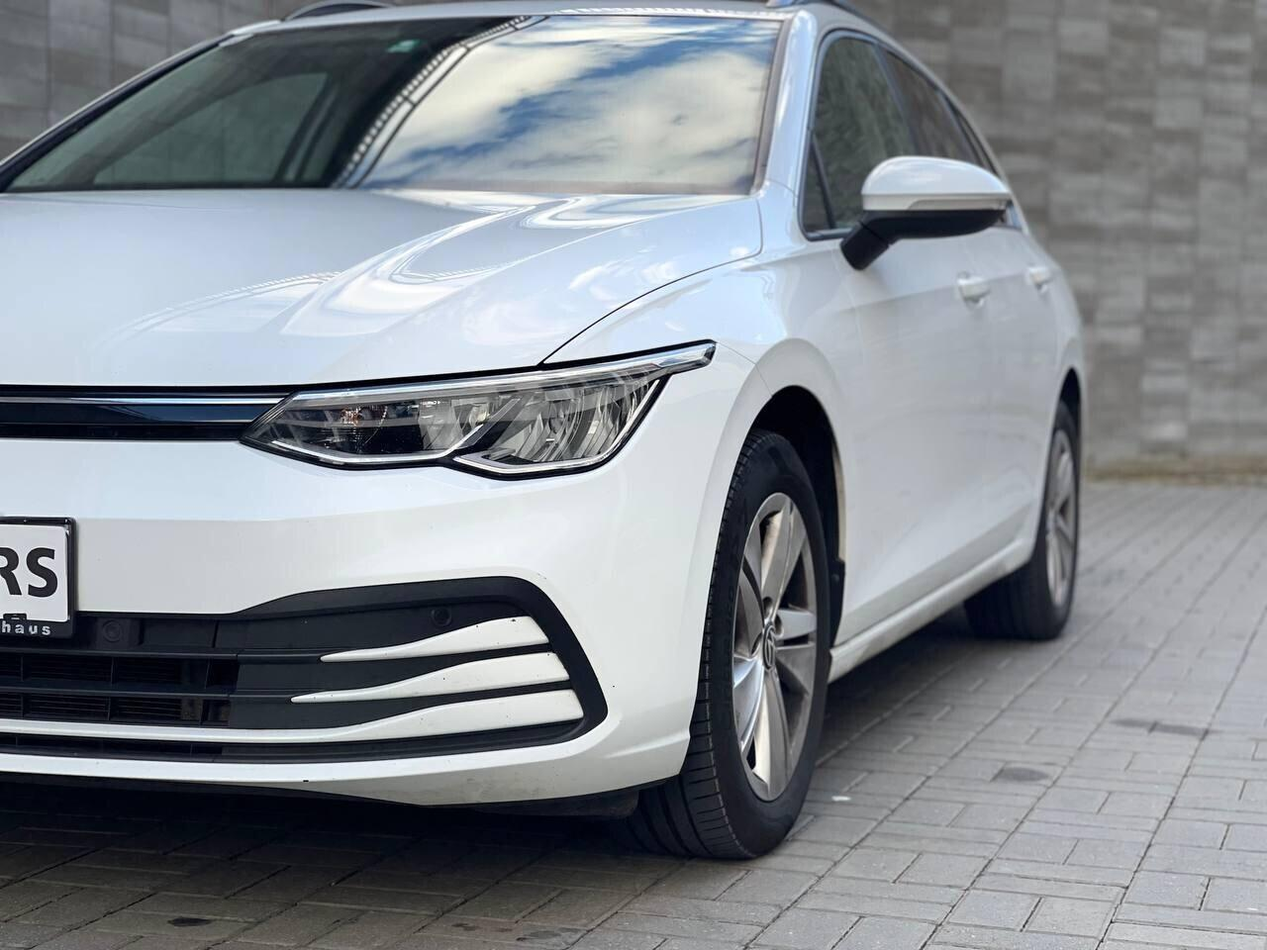Golf_2019: (0, 0, 1089, 862)
